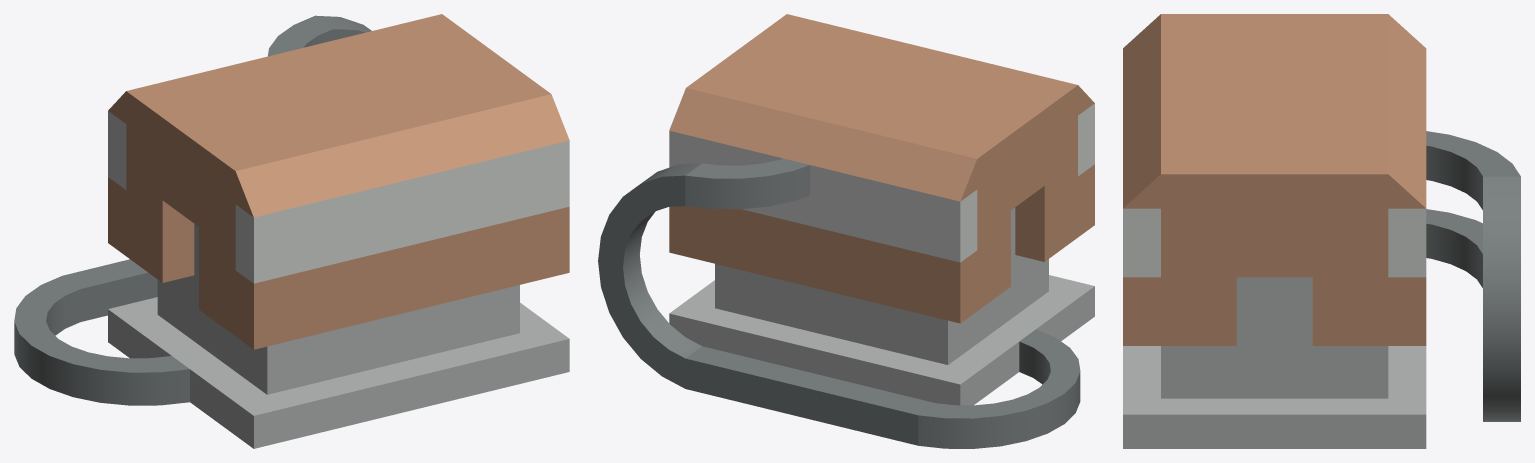
The model's file is srf_generator.glb.
3 views of the same model, side by side, from view 1: azimuth 30°, elevation 25°; view 2: azimuth 150°, elevation 25°; view 3: azimuth 270°, elevation 25° (orthographic). The views are drawn at different scales.
Visible parts, largest first — view 1: machine_generator, cable; view 2: machine_generator, cable; view 3: machine_generator, cable.
Boxes of the visible parts, x1=… form: machine_generator: x1=108, y1=14, x2=569, y2=448; cable: x1=14, y1=15, x2=371, y2=405; machine_generator: x1=669, y1=14, x2=1094, y2=405; cable: x1=598, y1=158, x2=1080, y2=448; machine_generator: x1=1123, y1=14, x2=1426, y2=448; cable: x1=1426, y1=131, x2=1520, y2=421.
Bounding box in the file's own units: 0.7 × 0.4 × 0.525.
